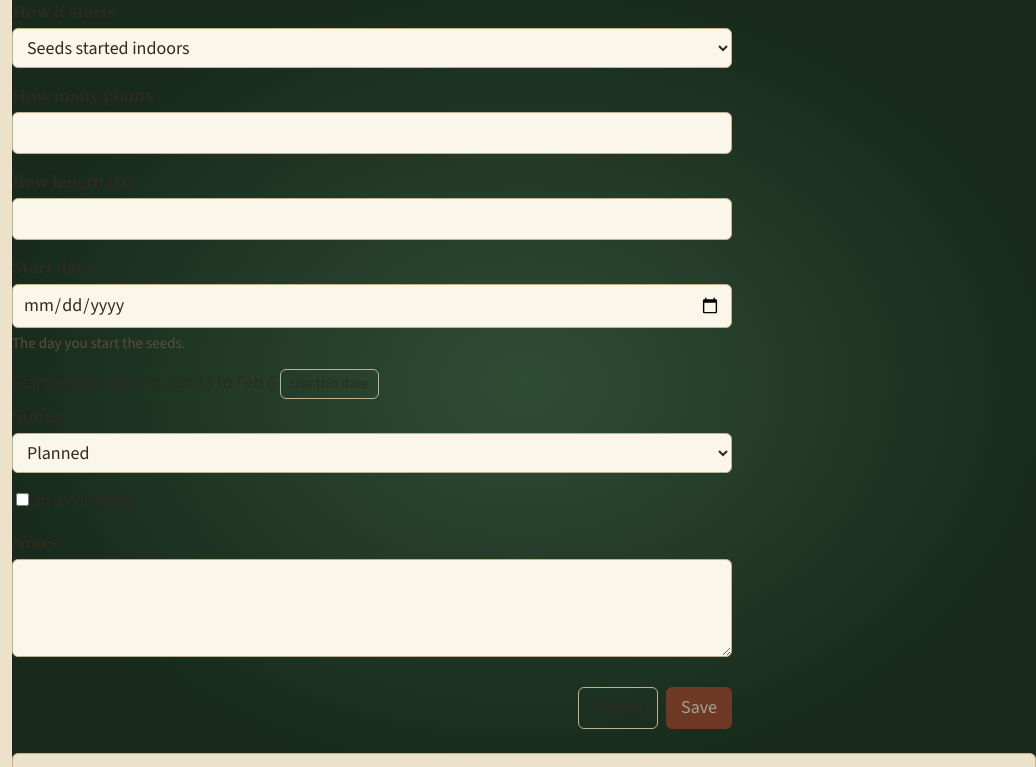
Test: plan a planting › the form suggests the start-seeds window date and Use this date fills it
The image size is (1036, 767).
(page scrolled)
Expected: the text "Start seeds indoors: Jan 23 to Feb 6 Use this date" is shown, [12, 369, 379, 399]
Step 1. Click the button "Use this date" → (329, 384), box [280, 369, 379, 399]
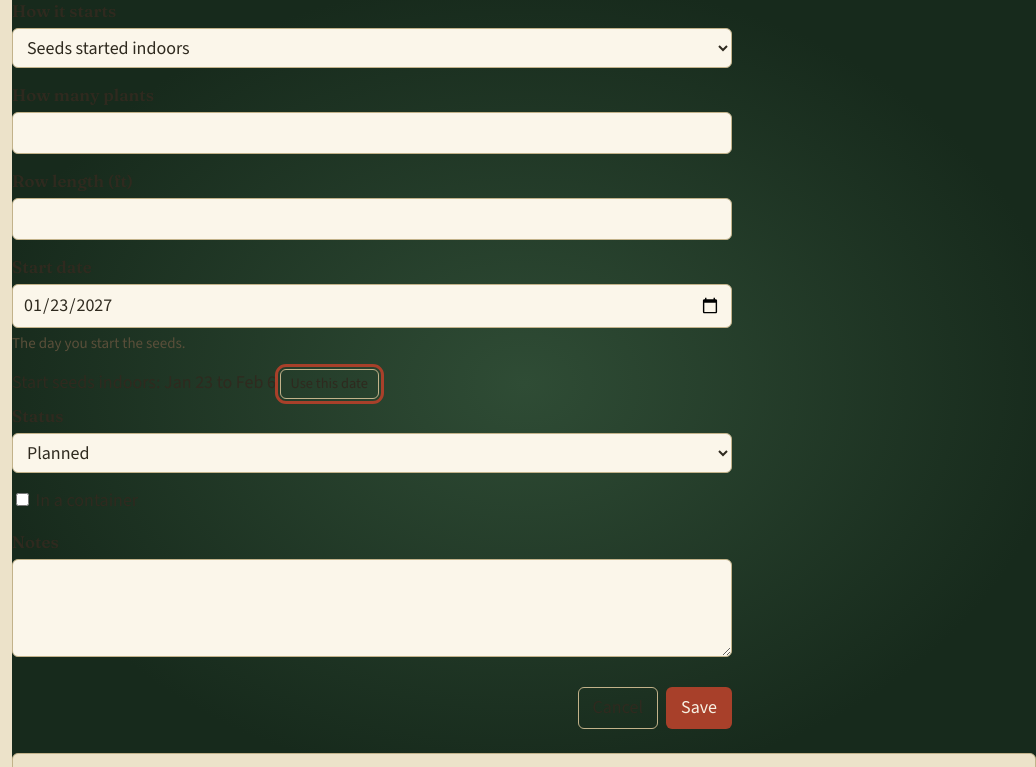
Now the date field labelled "Start date" holds "2027-01-23", box [12, 284, 732, 328]
